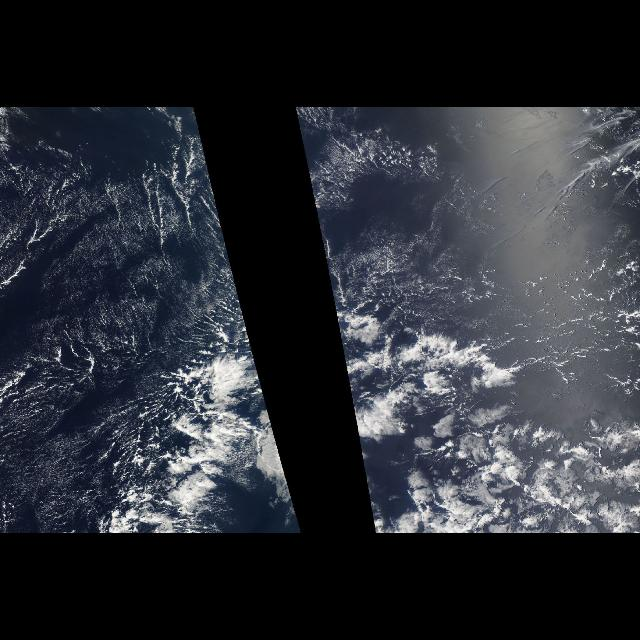Fish: (162, 335, 250, 533)
Flower: (362, 377, 538, 533)
Sugar: (2, 111, 246, 533), (337, 113, 637, 315)
